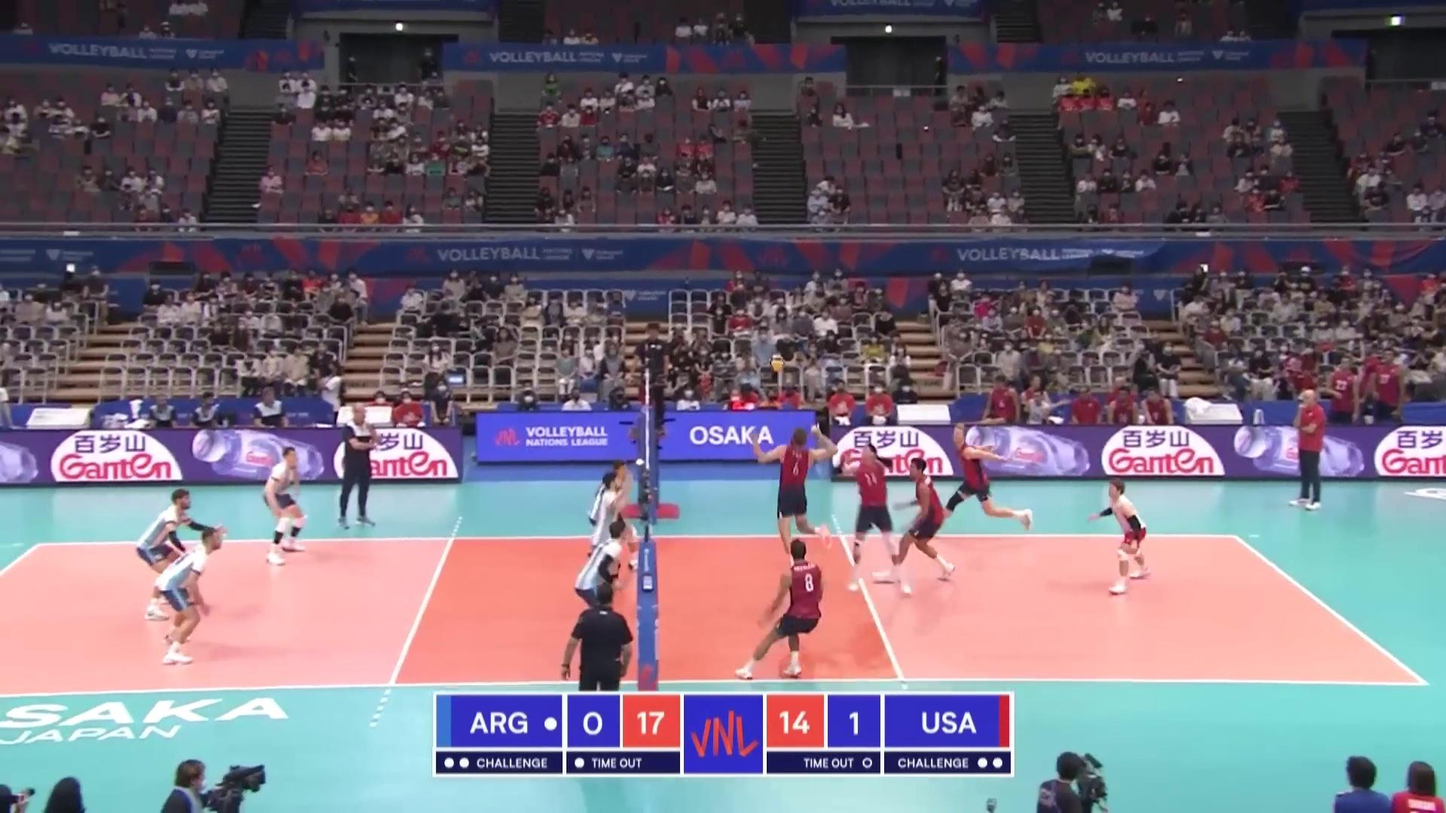player: (739, 540, 825, 680), (754, 420, 835, 567), (836, 441, 908, 595), (932, 426, 1033, 534), (130, 488, 209, 620), (876, 458, 954, 583), (153, 532, 222, 664), (1089, 478, 1153, 597), (589, 473, 636, 615), (587, 458, 640, 580), (575, 522, 633, 632), (260, 445, 309, 567)
refree: (566, 584, 631, 690), (637, 323, 670, 422)
